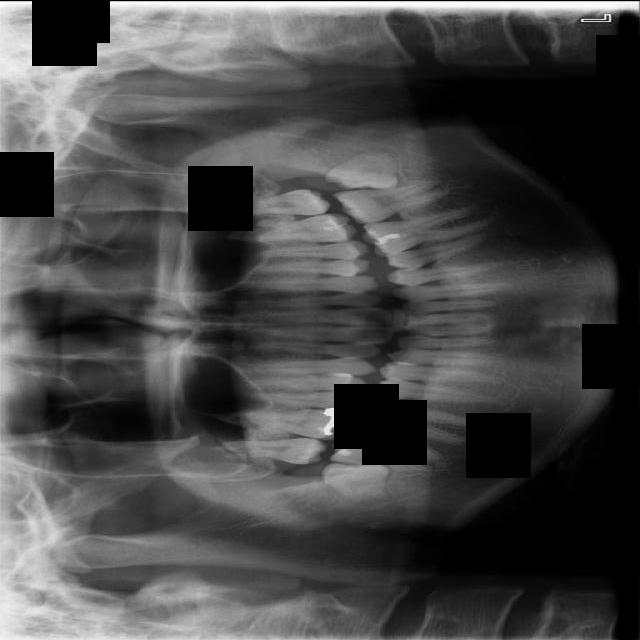52: (344, 381, 407, 445), (329, 421, 391, 472), (357, 211, 420, 261), (296, 399, 353, 445), (301, 212, 358, 242)
73: (565, 50, 570, 52)
BioHorizons Implant: (226, 189, 329, 214)
Biomet 3i Implant: (325, 147, 400, 192)
Blue Sky Bio Implant: (332, 177, 447, 228)
Caries: (224, 436, 328, 467)
Implant: (330, 425, 442, 472)
Keystone Dental Implant: (322, 461, 390, 504)
